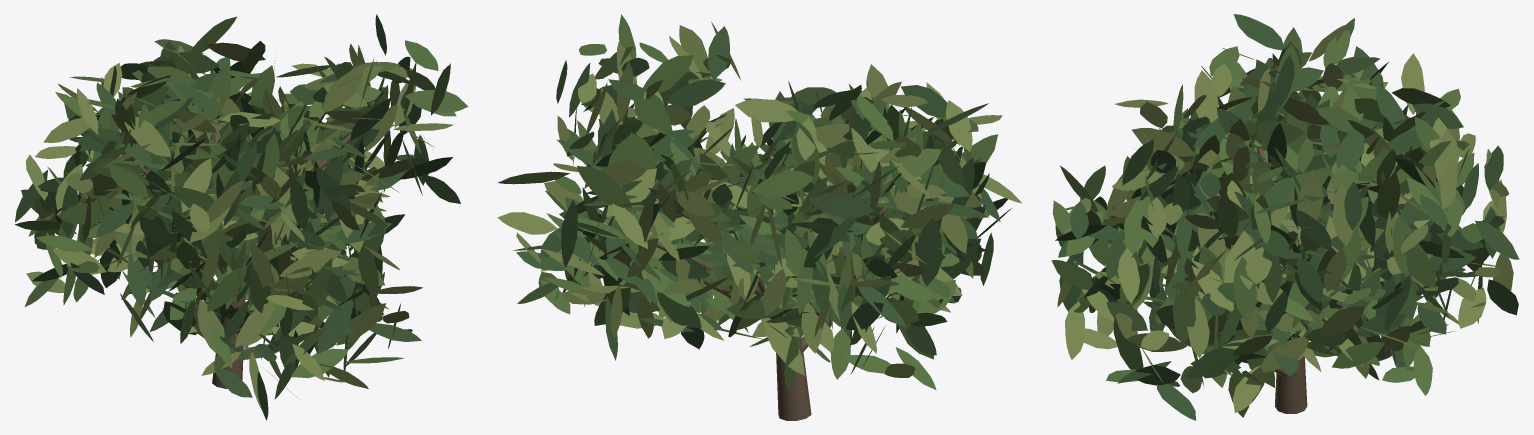
File: bush.glb
The picture shows the model from 3 angles, left to right: view 1: azimuth 30°, elevation 25°; view 2: azimuth 150°, elevation 25°; view 3: azimuth 270°, elevation 25°; orthographic projection. The views are drawn at different scales.
Size of the model in its own units: 2.51 by 2.03 by 2.59.
